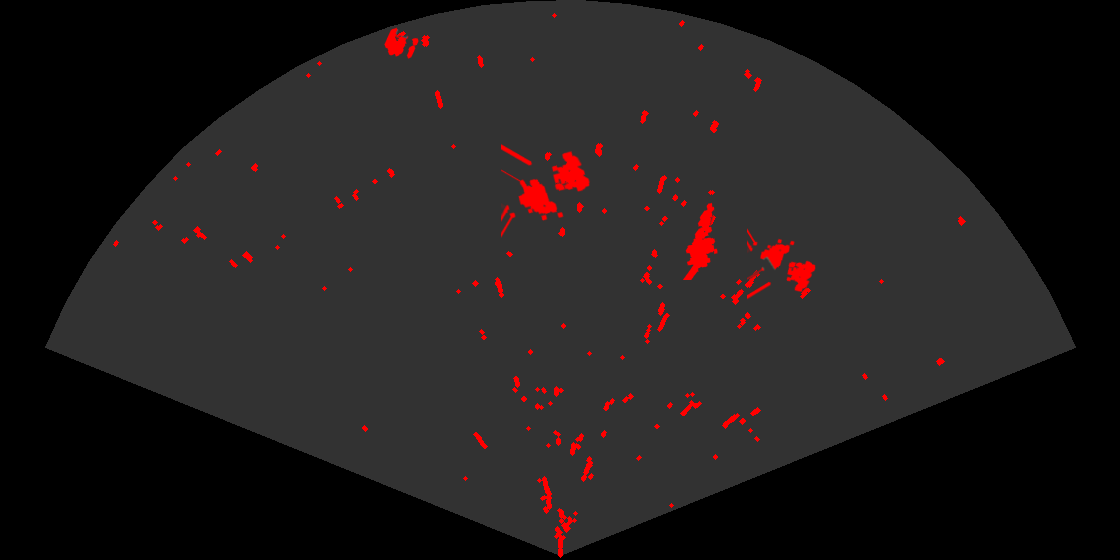ball: (383, 26, 420, 60)
cage: (501, 143, 592, 239), (747, 227, 817, 301)
frogman: (681, 201, 719, 280)
